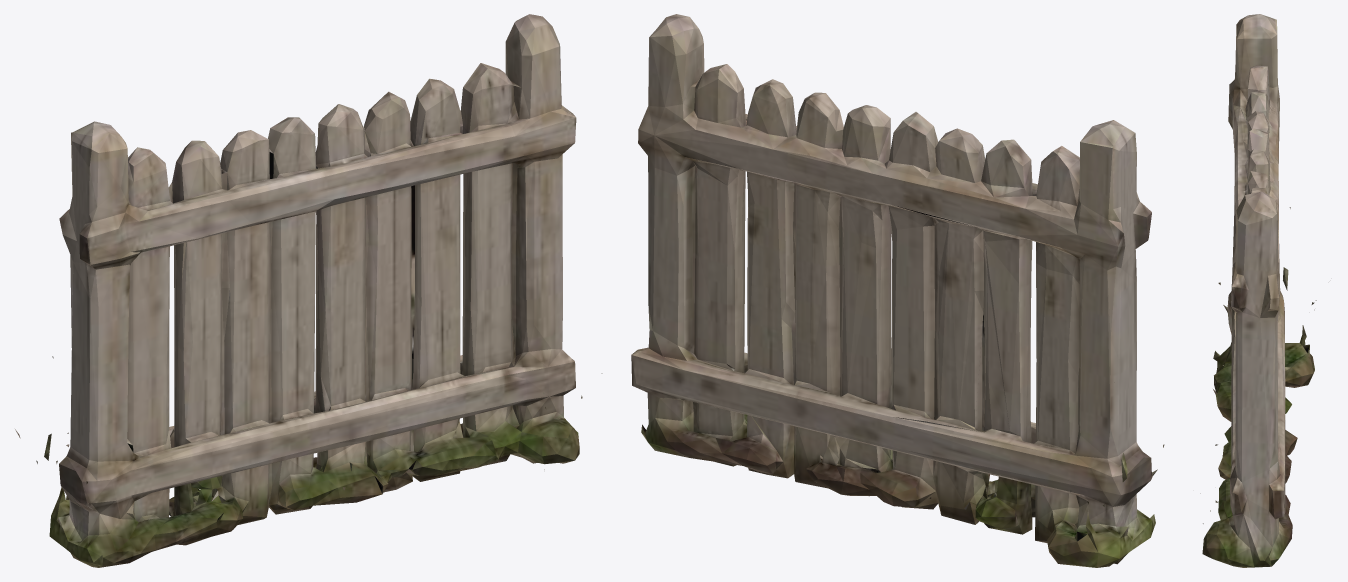
File: fence_farm_white_lod0.glb
The picture shows the model from 3 angles, left to right: view 1: azimuth 30°, elevation 25°; view 2: azimuth 150°, elevation 25°; view 3: azimuth 270°, elevation 25°; orthographic projection. The views are drawn at different scales.
Visible parts, largest first — view 1: fence_farm_white_lod0; view 2: fence_farm_white_lod0; view 3: fence_farm_white_lod0.
Part boxes in pixels (x1,y1,x2,y2): fence_farm_white_lod0: (15,14,602,567); fence_farm_white_lod0: (631,14,1164,567); fence_farm_white_lod0: (1200,14,1316,567).
Bounding box in the file's own units: 1.99 × 1.65 × 0.5673.
Materials: 1 (1 with a texture image).
